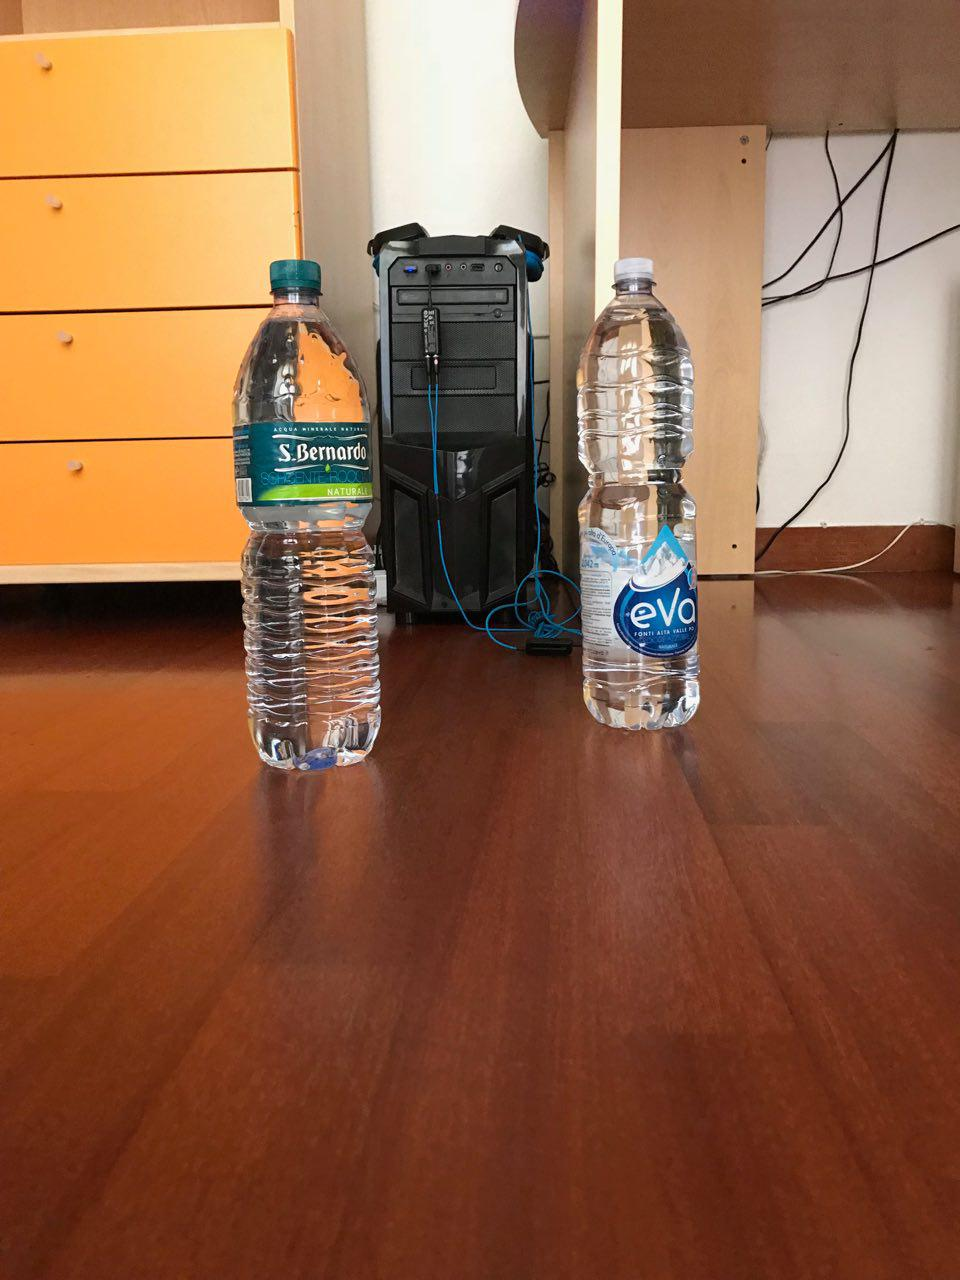san_bernardo: (230, 257, 382, 772)
